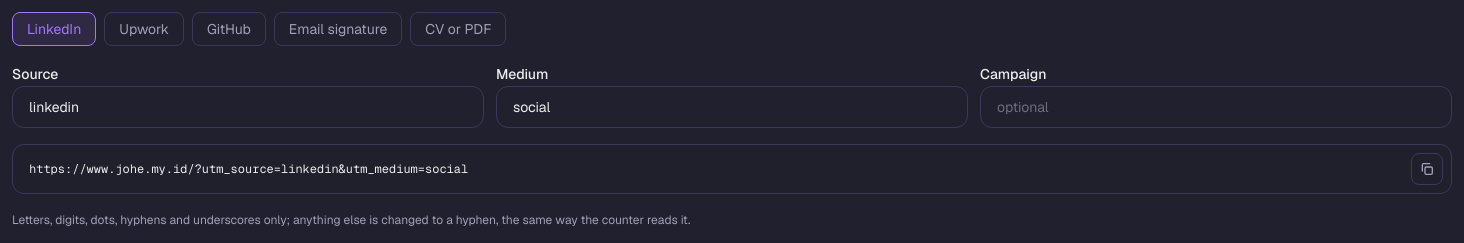
Test: LinkBuilder › builds the link from what you type, cleaned the way the counter reads it
Type "My CV!" into the field labelled "Source" at (248, 107), box x1=12 y1=86 x2=484 y2=128
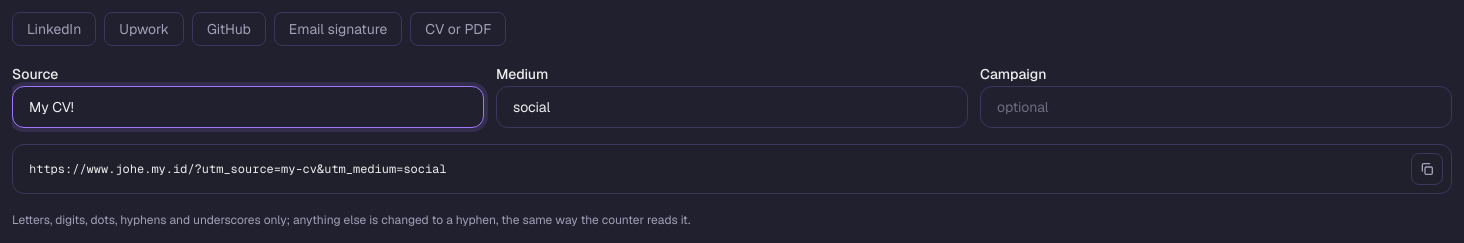
Type "Q4 2026" into the field labelled "Campaign" at (1216, 107), box x1=980 y1=86 x2=1452 y2=128
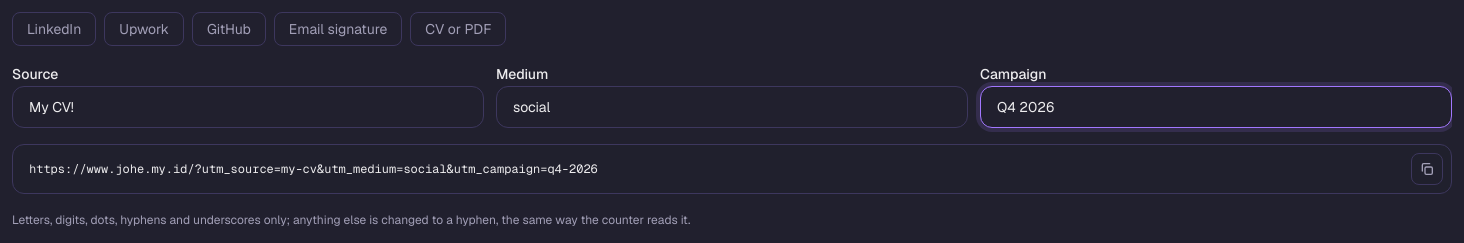
Result: the text named "Tracked link" reads "https://www.johe.my.id/?utm_source=my-cv&utm_medium=social&utm_campaign=q4-2026" at x1=29 y1=161 x2=598 y2=177
